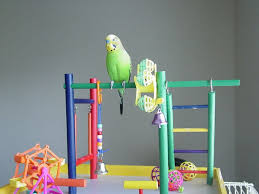budgie: (102, 33, 130, 118)
